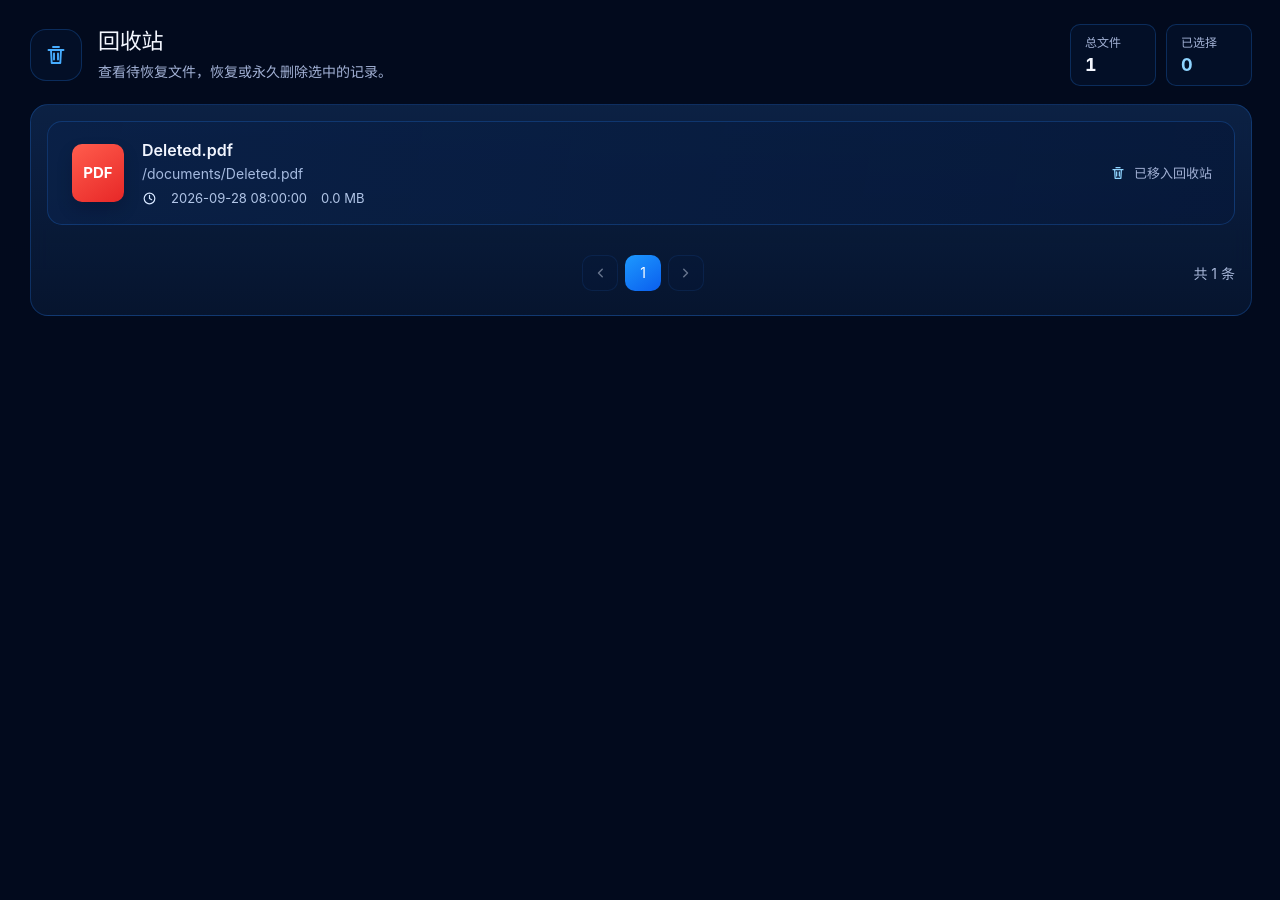
Test: RecyclePage › permanently deletes selected recycle items
Press the mouse on the text "Deleted.pdf" at {"x": 641, "y": 173}, box [47,121,1235,225]
Wait 800 ms
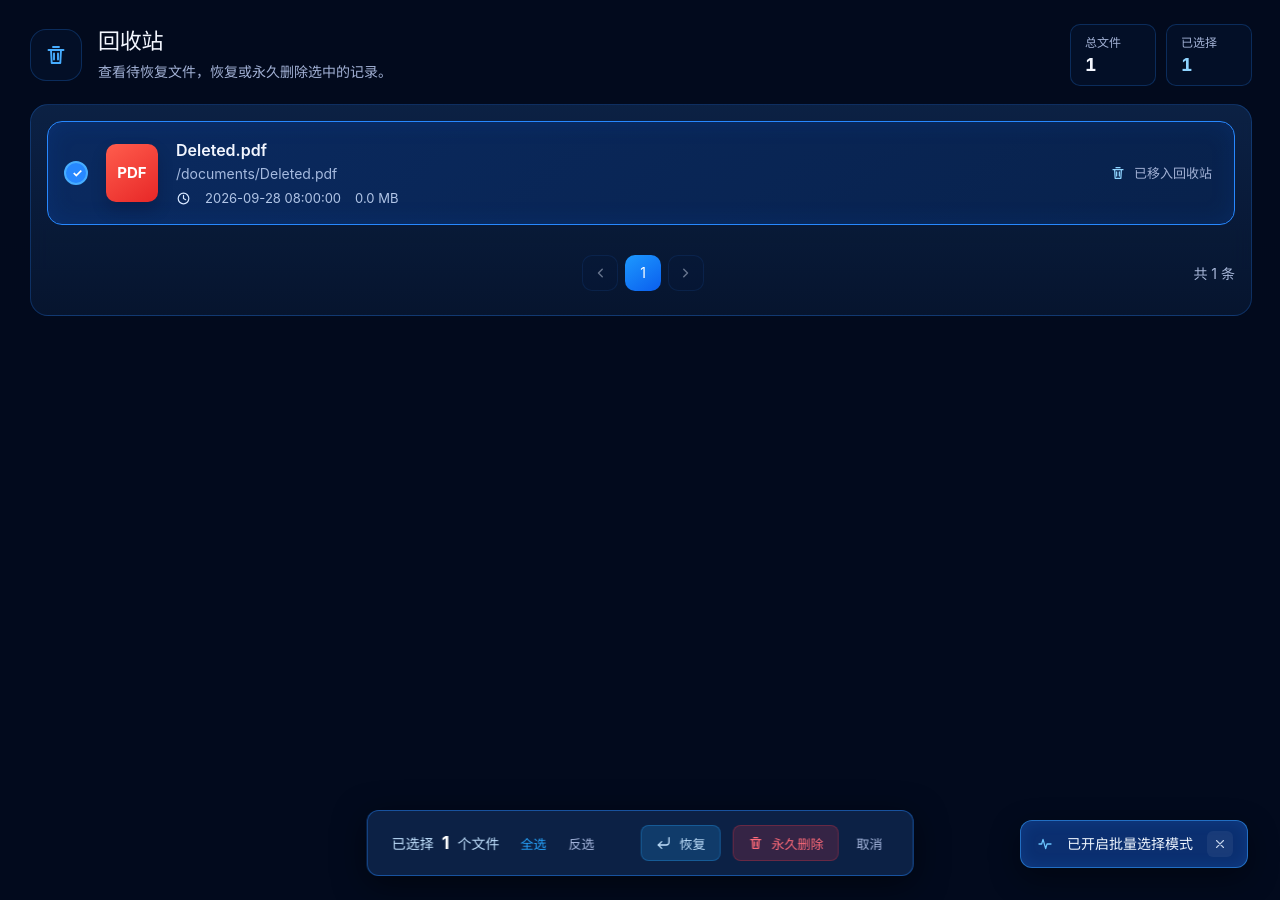
Click the button "永久删除".
click(785, 843)  # box [732,825,838,861]
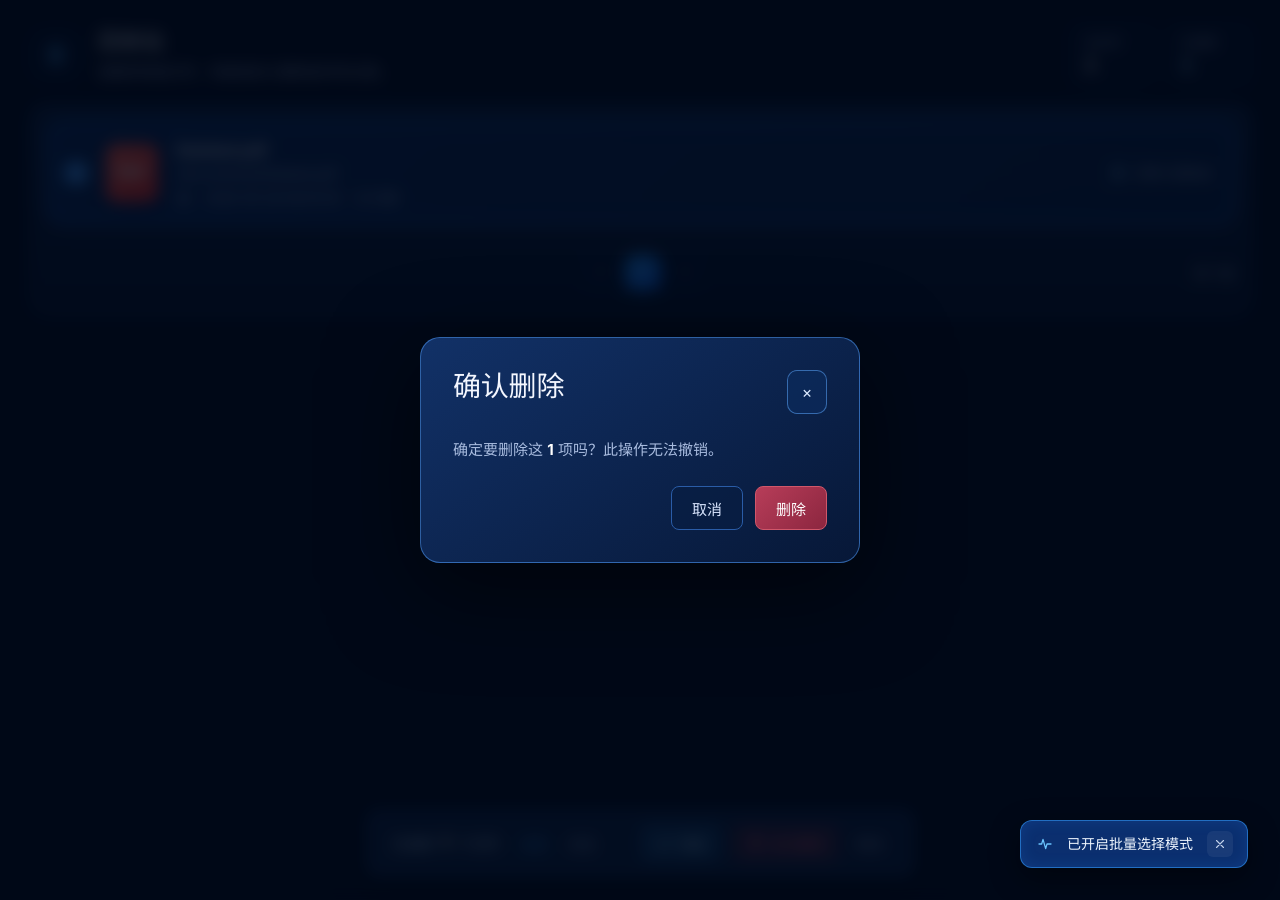
Click the button "删除".
click(791, 508)  # box [755,486,827,530]
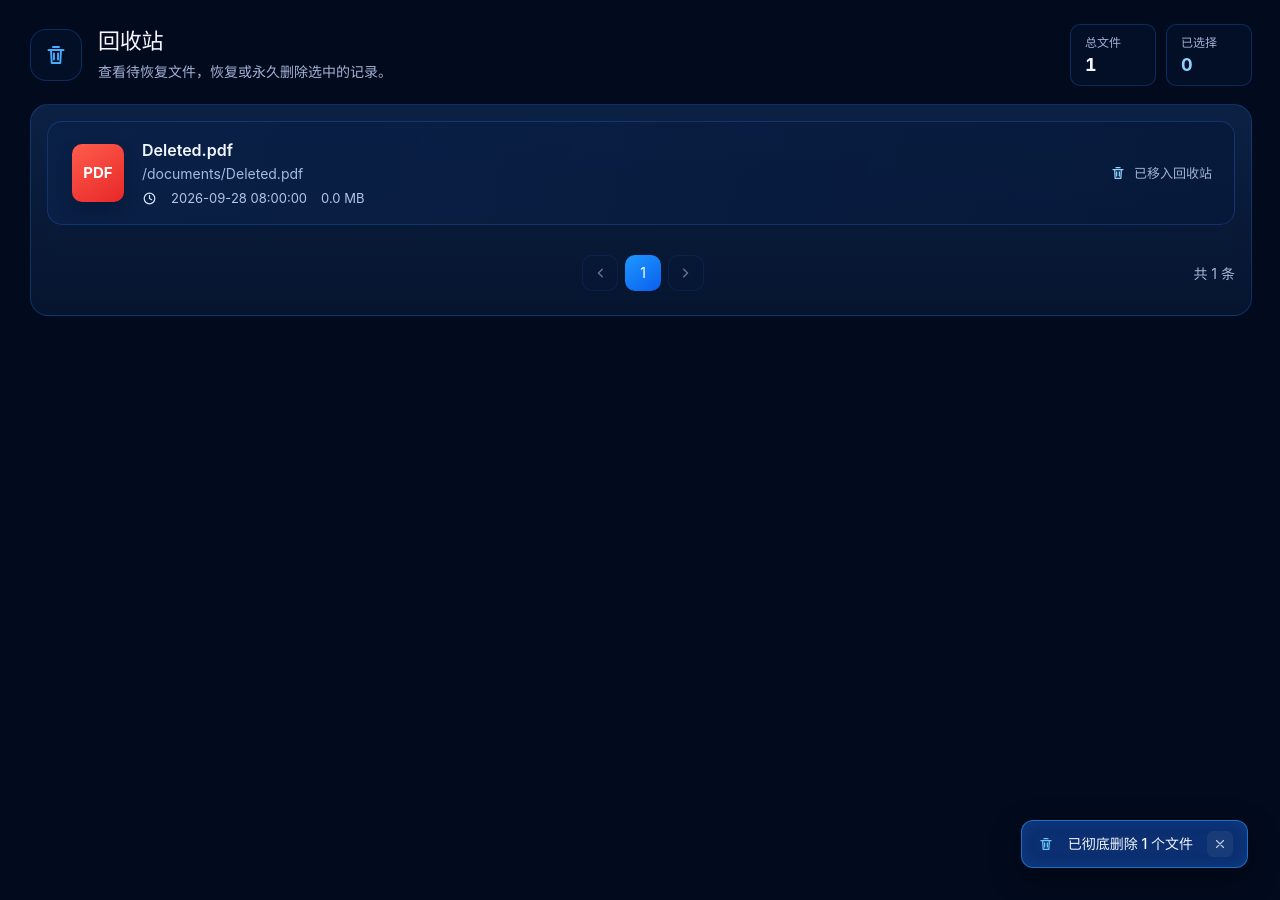
Expected: the text "已彻底删除 1 个文件" is shown, [1068,834,1193,854]
